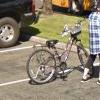Bicycle: (20, 30, 95, 92)
